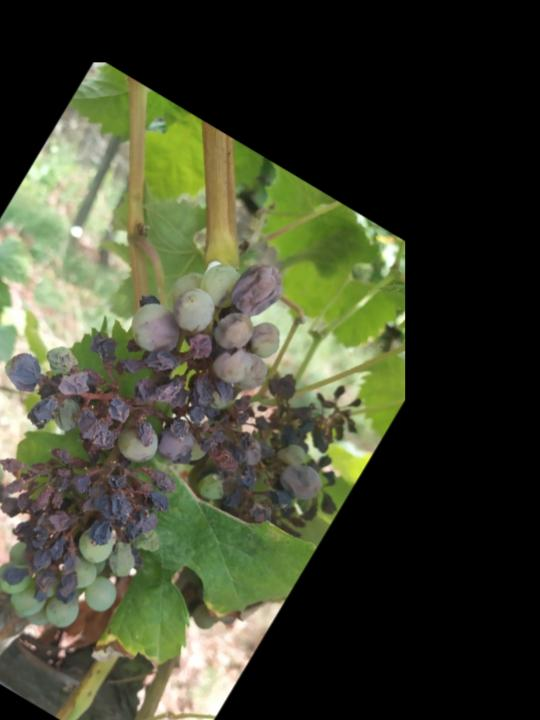grape: (0, 170, 351, 687)
